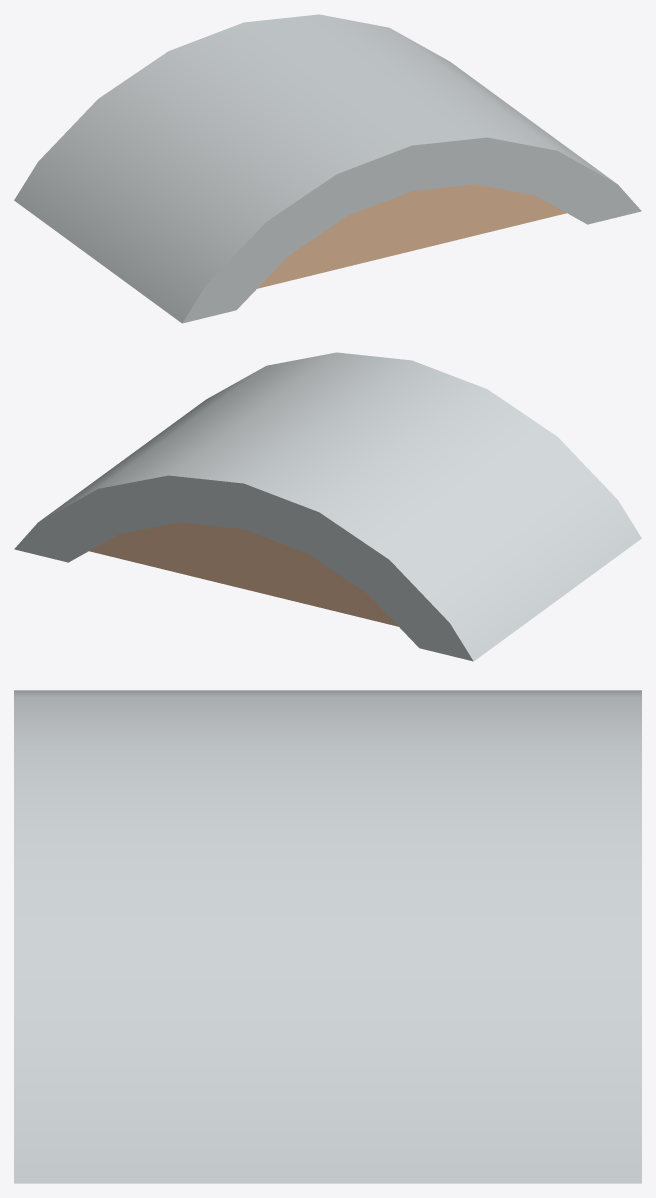
3 renders of one model, top to bottom at view 1: azimuth 30°, elevation 25°; view 2: azimuth 150°, elevation 25°; view 3: azimuth 270°, elevation 25°, orthographic. The views are drawn at different scales.
Parts seen in each view (by area): view 1: blockSnowCurveLow; view 2: blockSnowCurveLow; view 3: blockSnowCurveLow.
Part boxes in pixels (box(x1,y1,x2,y2)): blockSnowCurveLow: box(14, 14, 641, 323); blockSnowCurveLow: box(14, 352, 641, 661); blockSnowCurveLow: box(14, 690, 641, 1183).
Bounding box in the file's own units: 1.58 × 0.4 × 1.
